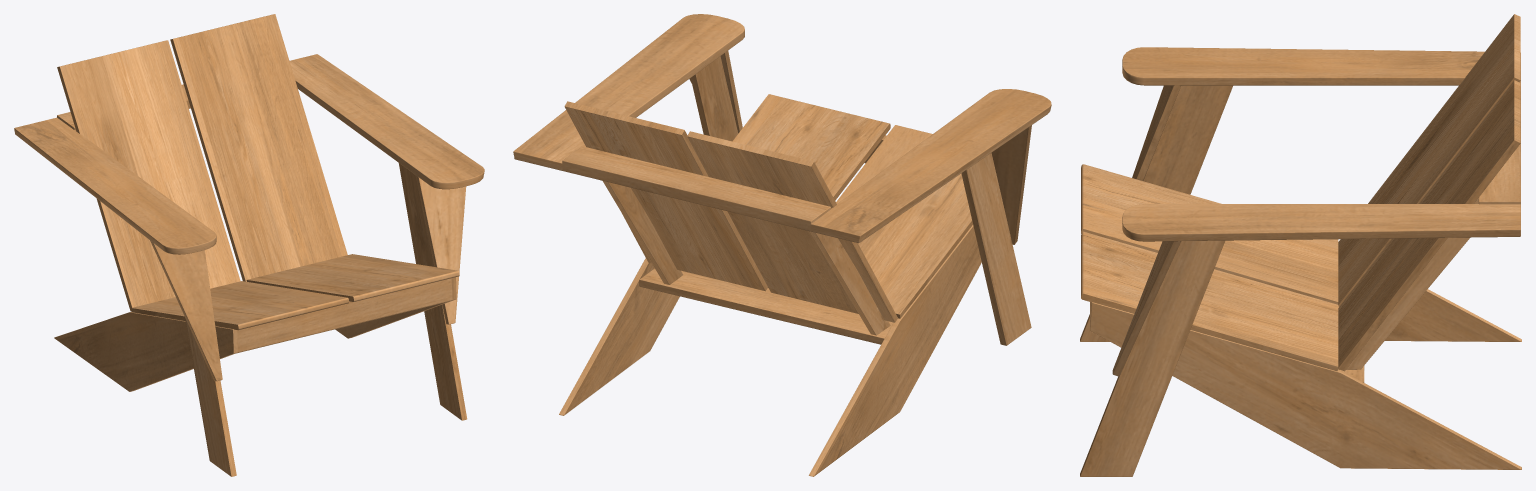
Rendered from asset.glb.
3 views of the same model, side by side, from view 1: azimuth 30°, elevation 25°; view 2: azimuth 150°, elevation 25°; view 3: azimuth 270°, elevation 25° (orthographic). The views are drawn at different scales.
Visible parts, largest first — view 1: Object_2; view 2: Object_2; view 3: Object_2.
Boxes of the visible parts, <box> form: Object_2: <box>14,14,484,476</box>; Object_2: <box>513,14,1051,476</box>; Object_2: <box>1080,14,1521,476</box>.
Bounding box in the file's own units: 902 × 742 × 898.
1 material, 1 textured.
